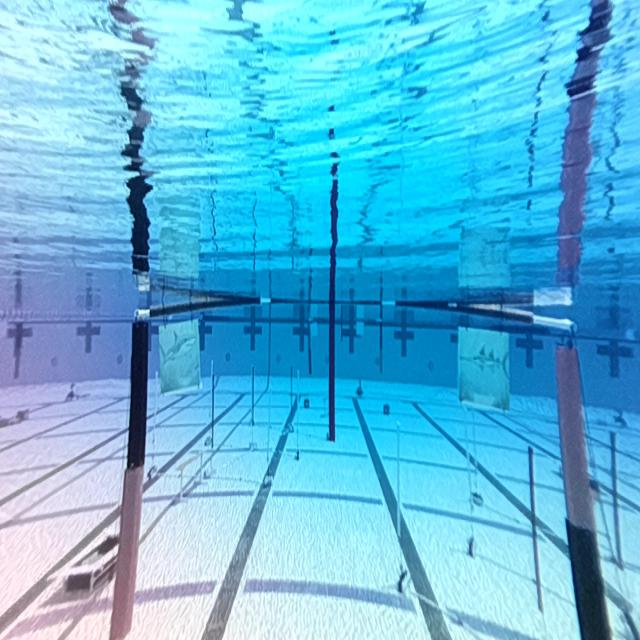pointed_nose: (459, 342, 510, 392)
round_nose: (158, 326, 198, 373)
